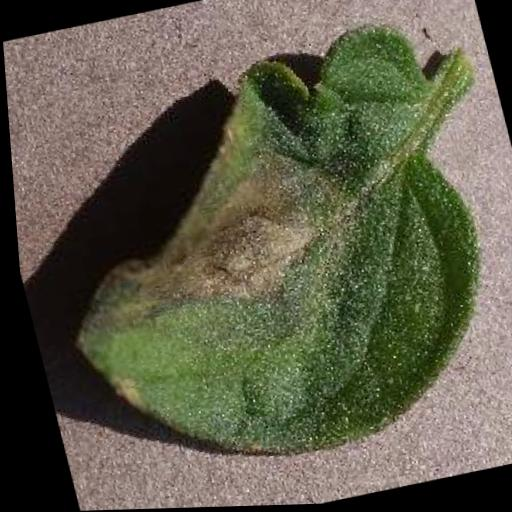Late Blight: (2, 12, 512, 501)
